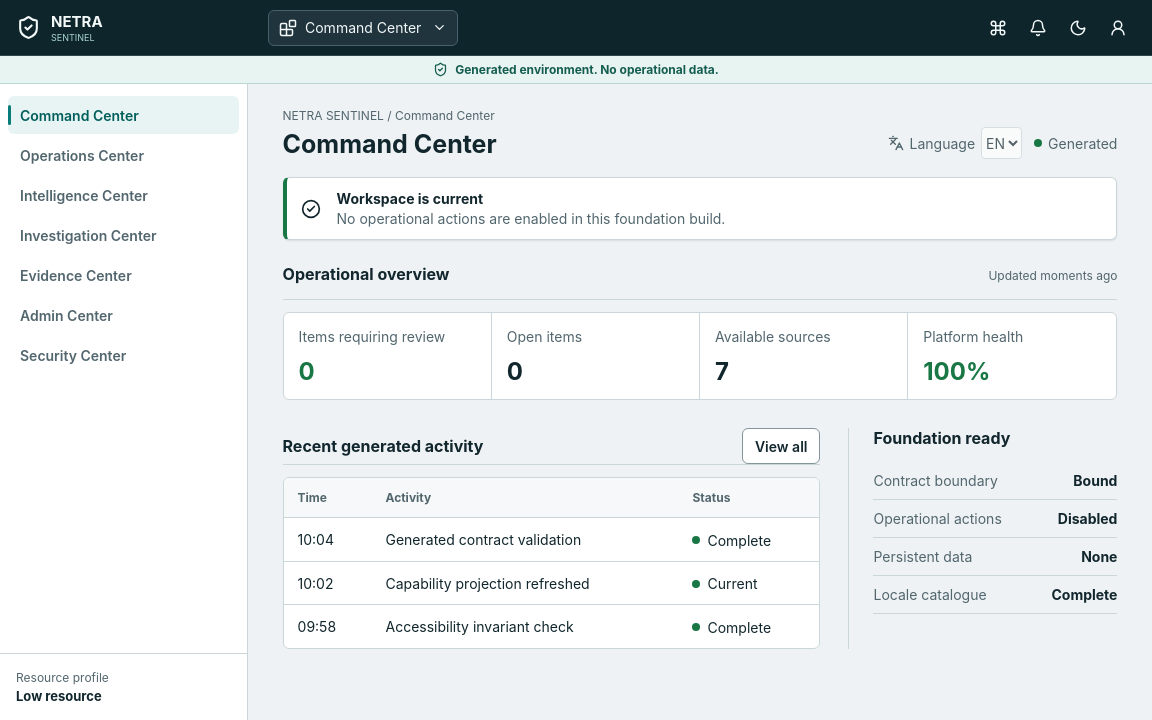
application shell › opens a focus-managed command dialog and closes with Escape
Click the button named "Open command search" at [998, 28], box [980, 10, 1016, 46]
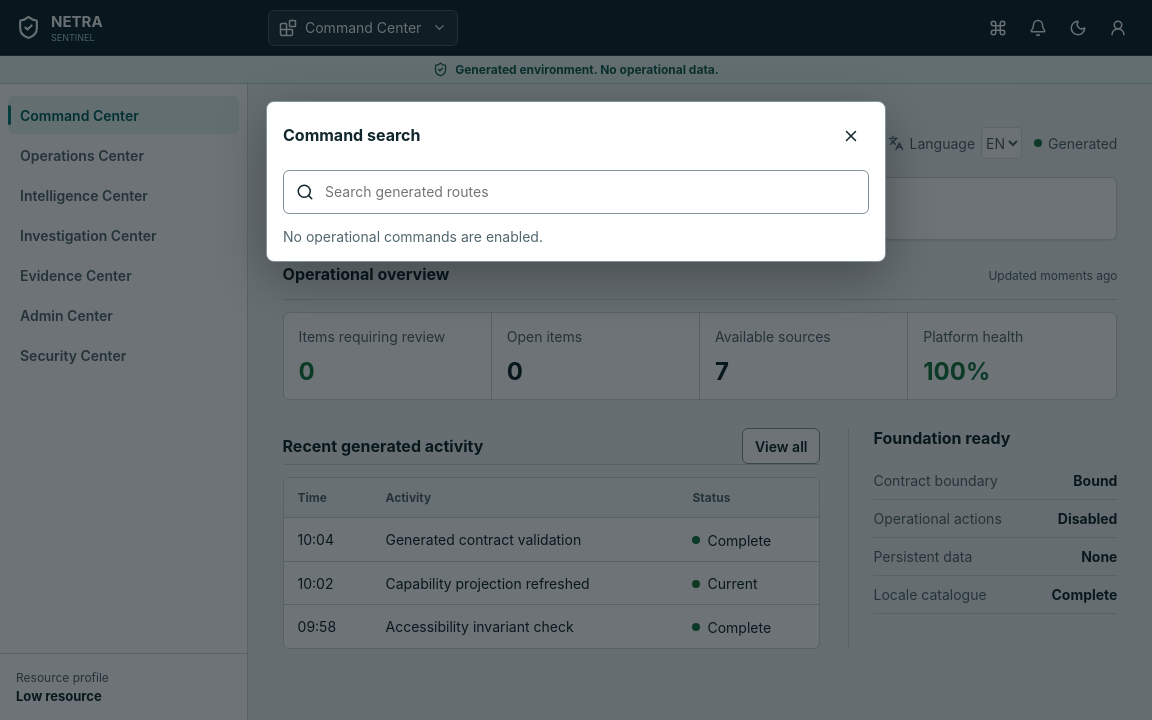
Now the dialog "Command search" is shown, box [266, 101, 886, 262]
Press Escape
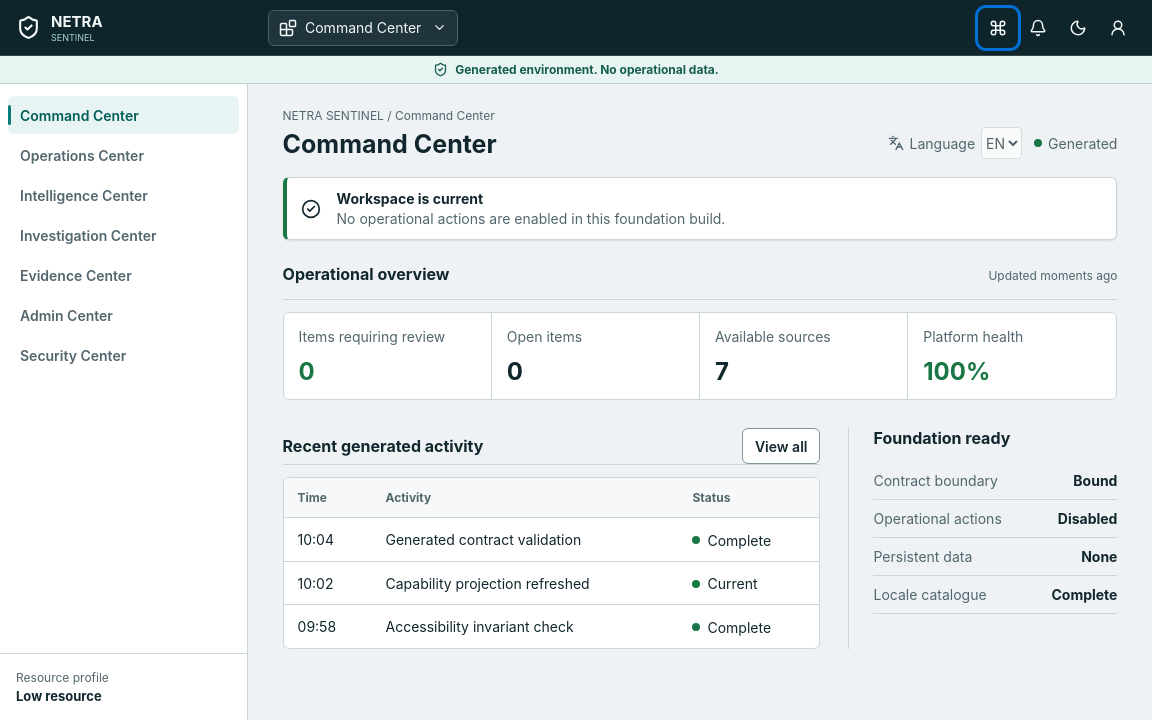
Now the dialog is gone
